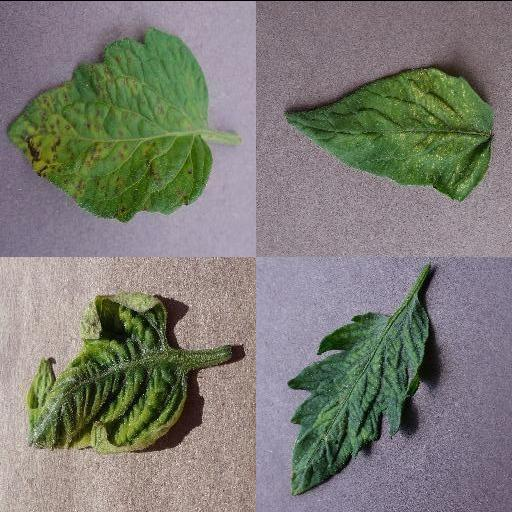Mosaic Virus: (288, 293, 432, 496)
Septoria: (6, 24, 214, 222)
Spider Mites: (284, 68, 494, 200)
Yellow Leaf Curl Virus: (25, 289, 191, 454)
